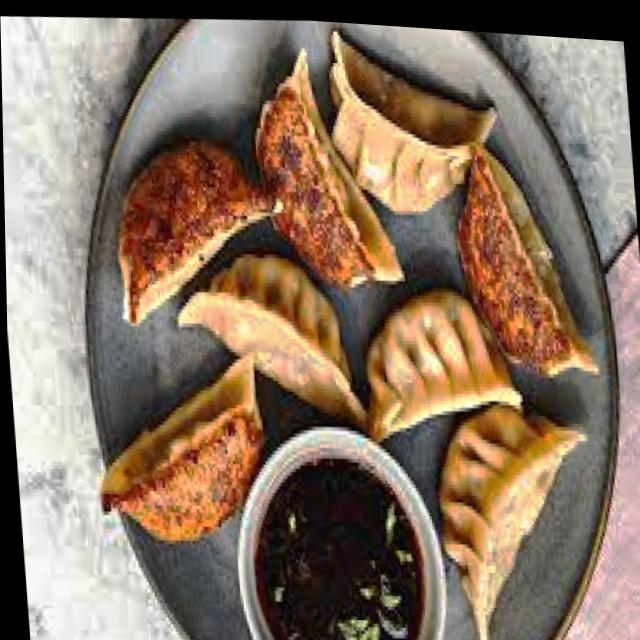fried_dumplings: (434, 395, 602, 640), (171, 244, 371, 443), (247, 41, 403, 296), (91, 340, 269, 552), (448, 139, 600, 385), (321, 21, 503, 223), (110, 129, 287, 336), (359, 284, 525, 449)
